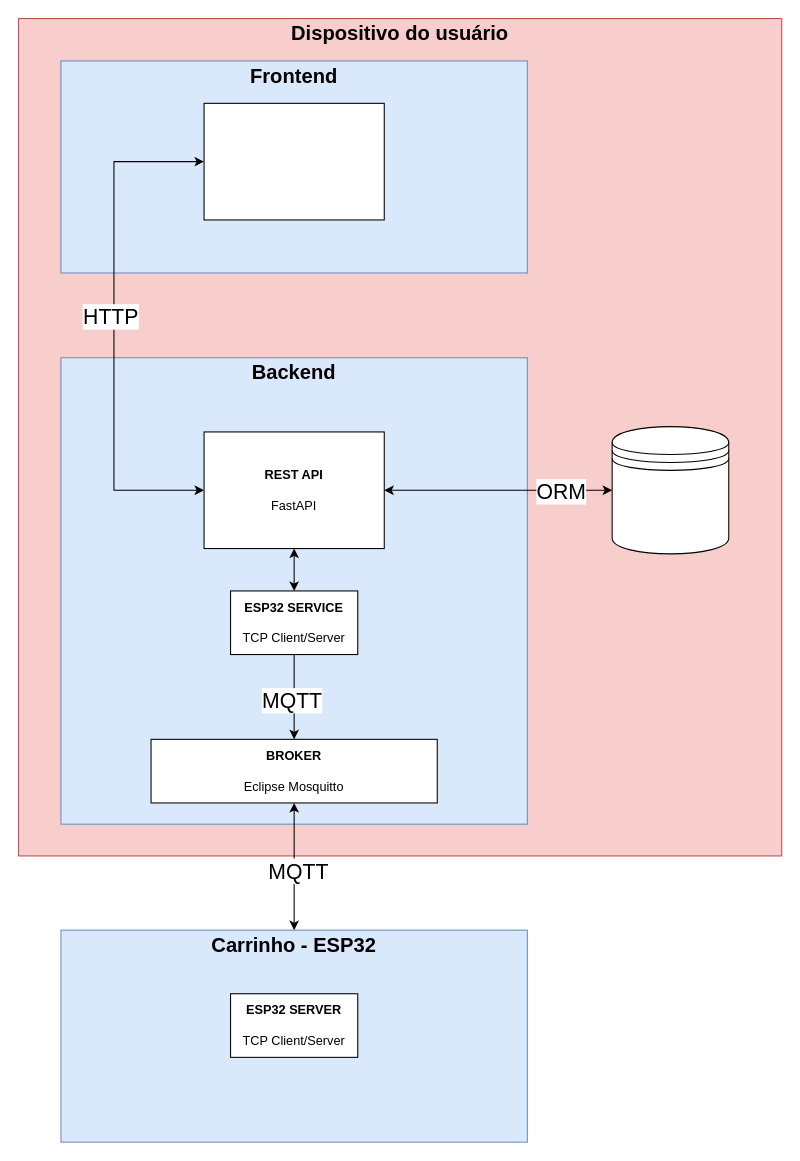
The diagram is 800 pixels wide and 1161 high, and some of its shapes have lost their labels. Here are the shapes that lost their labels. From the top down, the box of each, then its label:
(203, 102, 384, 220): Web Frontend React/HTML
(611, 426, 729, 554): Base de dados PostgreSQL
